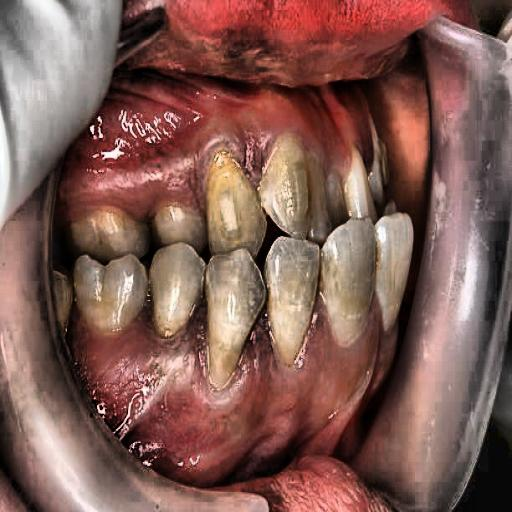Gingivitis: (69, 312, 399, 453), (91, 66, 386, 180)
